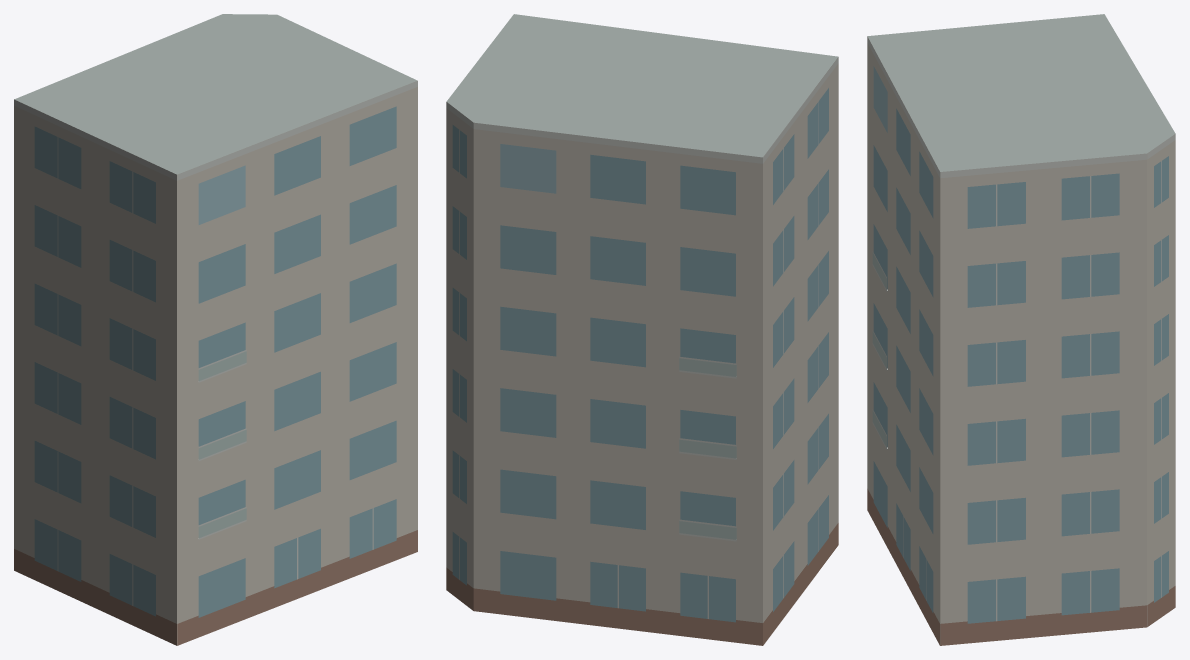
File: survey-upis-32705563.glb
3 views of the same model, side by side, from view 1: azimuth 30°, elevation 25°; view 2: azimuth 150°, elevation 25°; view 3: azimuth 270°, elevation 25° (orthographic). The views are drawn at different scales.
Parts seen in each view (by area): view 1: survey-upis-32705563.tmp; view 2: survey-upis-32705563.tmp; view 3: survey-upis-32705563.tmp.
Part boxes in pixels (x1,y1,x2,y2): survey-upis-32705563.tmp: (14,14,417,645); survey-upis-32705563.tmp: (446,14,838,645); survey-upis-32705563.tmp: (867,14,1175,645).
Bounding box in the file's own units: 13.38 × 18.7 × 11.04.
